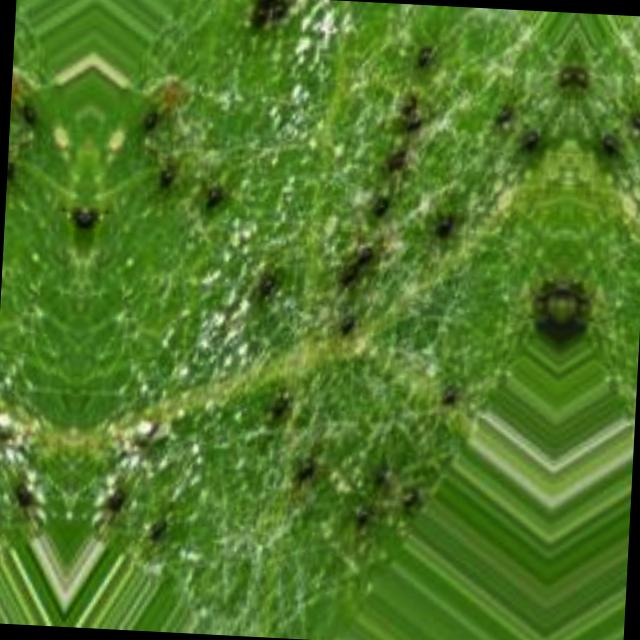Powdery_mildew: (106, 266, 254, 478), (275, 0, 349, 249), (0, 259, 46, 466)
